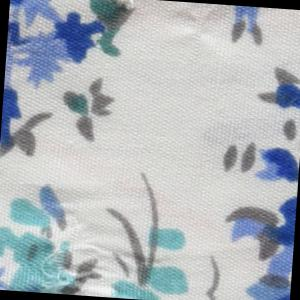Damage: (14, 183, 177, 300), (165, 2, 240, 55)
